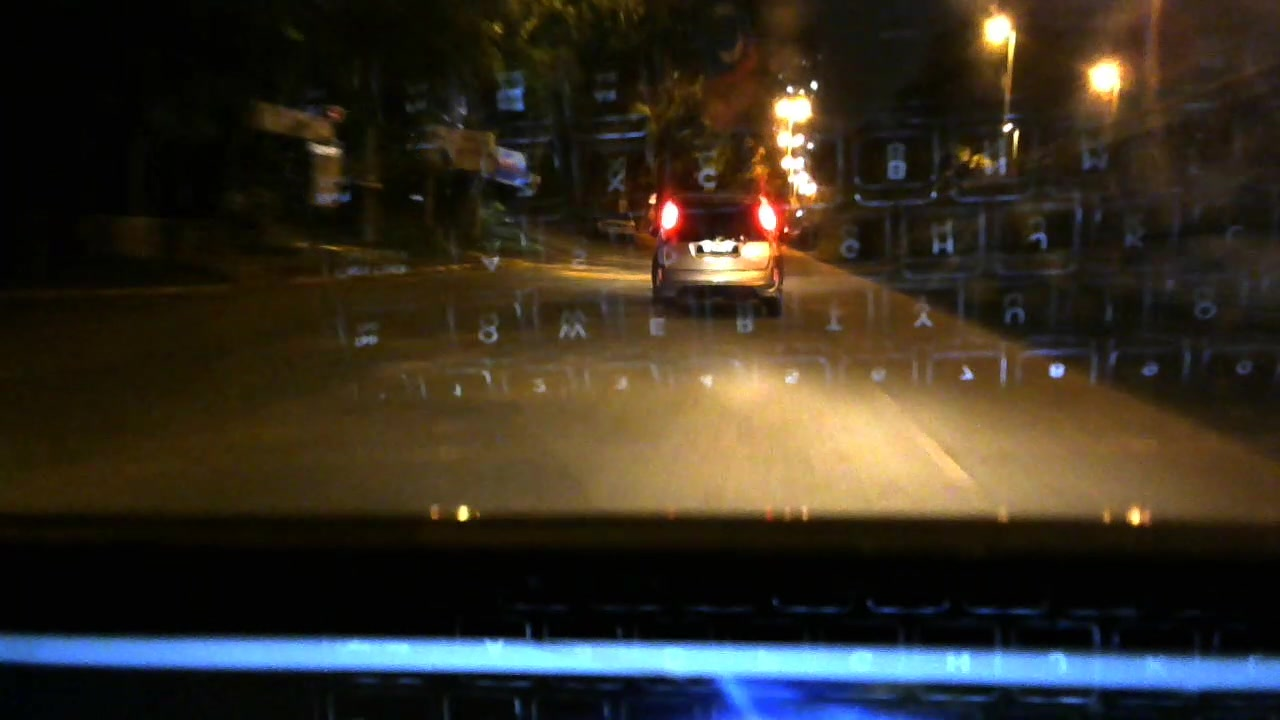Car: (637, 171, 789, 323)
